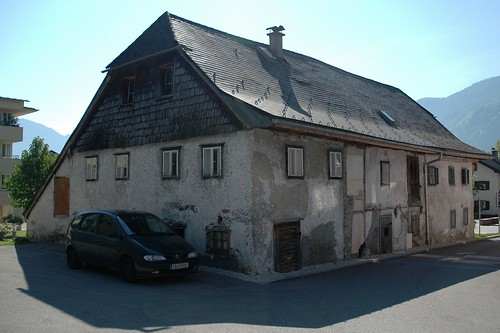high: (21, 8, 491, 285)
